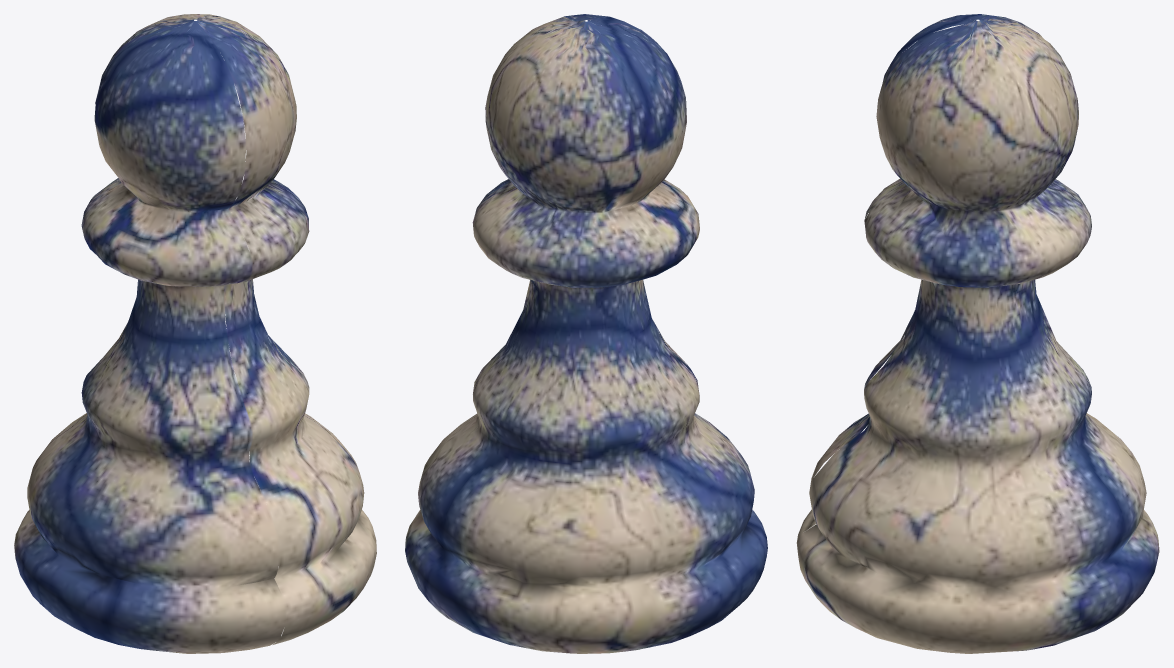
The model's file is cobalt_vein_white_pawn.glb.
3 views of the same model, side by side, from view 1: azimuth 30°, elevation 25°; view 2: azimuth 150°, elevation 25°; view 3: azimuth 270°, elevation 25° (orthographic).
Parts seen in each view (by area): view 1: Cobalt Vein white pawn; view 2: Cobalt Vein white pawn; view 3: Cobalt Vein white pawn.
Part boxes in pixels (bbox=[...]): Cobalt Vein white pawn: bbox=[14, 14, 376, 653]; Cobalt Vein white pawn: bbox=[405, 14, 767, 653]; Cobalt Vein white pawn: bbox=[796, 14, 1159, 653].
Bounding box in the file's own units: 0.03 × 0.0524 × 0.03.
1 material, 1 textured.
